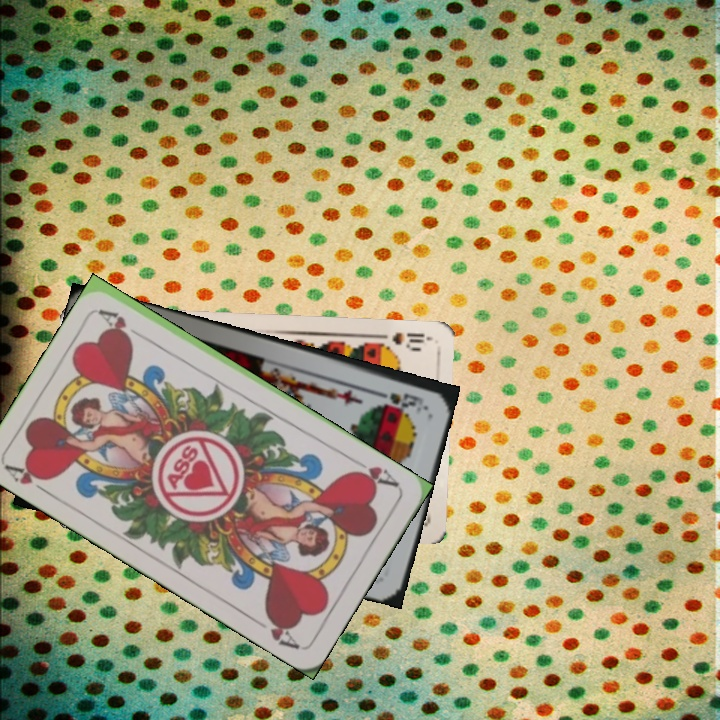HA: (1, 459, 55, 499), (348, 454, 402, 490)
S10: (371, 328, 431, 352)
SK: (369, 386, 428, 412)
